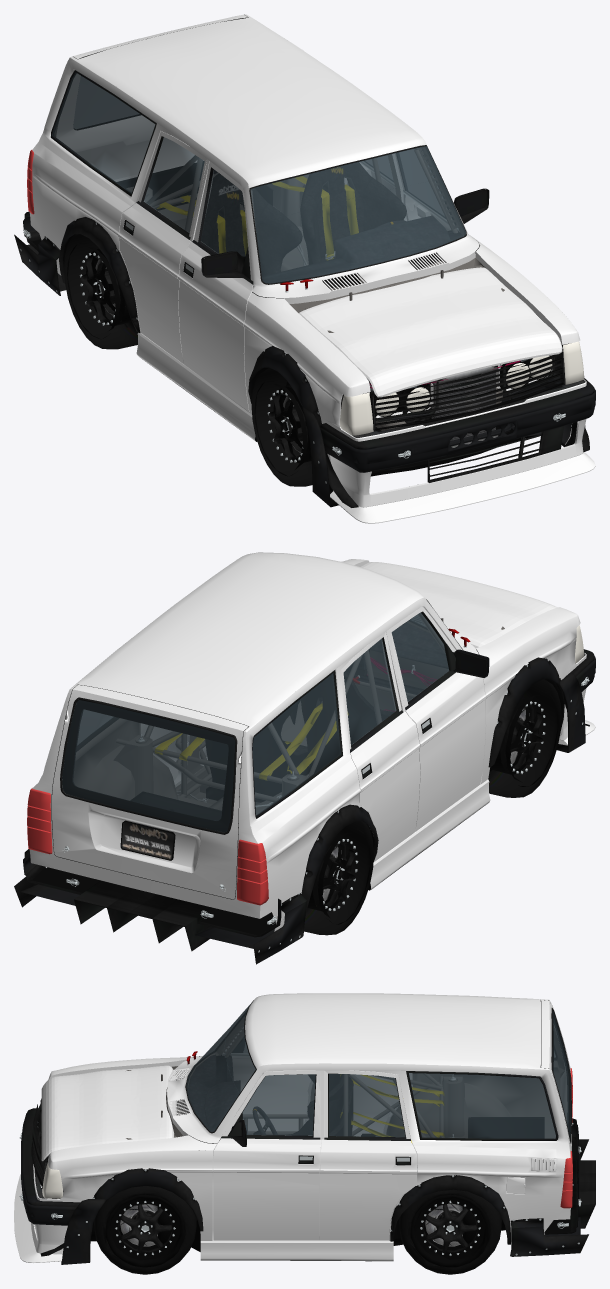
3 views of the same model, one above another, from view 1: azimuth 30°, elevation 25°; view 2: azimuth 150°, elevation 25°; view 3: azimuth 270°, elevation 25° (orthographic). The views are drawn at different scales.
Parts seen in each view (by area): view 1: body_paint, body_details, glass, interior, wheel_RR, wheel_FR, lamps_front; view 2: body_paint, body_details, glass, interior, wheel_FR, wheel_RR, lamps_rear; view 3: body_paint, body_details, glass, interior, wheel_FL, wheel_RL, lamps_rear, lamps_front.
Boxes of the visible parts, bbox=[...] form: body_paint: bbox=[29, 14, 595, 523]; body_details: bbox=[14, 14, 595, 507]; glass: bbox=[52, 72, 465, 283]; interior: bbox=[54, 122, 512, 430]; wheel_RR: bbox=[64, 234, 137, 349]; wheel_FR: bbox=[251, 368, 312, 486]; lamps_front: bbox=[340, 341, 584, 435]; body_paint: bbox=[29, 552, 595, 931]; body_details: bbox=[14, 599, 595, 964]; glass: bbox=[62, 612, 462, 832]; interior: bbox=[52, 613, 504, 855]; wheel_FR: bbox=[488, 679, 561, 797]; wheel_RR: bbox=[304, 821, 373, 935]; lamps_rear: bbox=[27, 788, 268, 905]; body_paint: bbox=[14, 993, 571, 1262]; body_details: bbox=[19, 1000, 595, 1264]; glass: bbox=[186, 1002, 570, 1138]; interior: bbox=[126, 1001, 564, 1150]; wheel_FL: bbox=[94, 1186, 196, 1274]; wheel_RL: bbox=[399, 1189, 501, 1274]; lamps_rear: bbox=[560, 1068, 572, 1208]; lamps_front: bbox=[42, 1162, 62, 1198].
Size of the model in its own units: 2.12 by 1.8 by 4.59.
6 materials, 1 textured.
